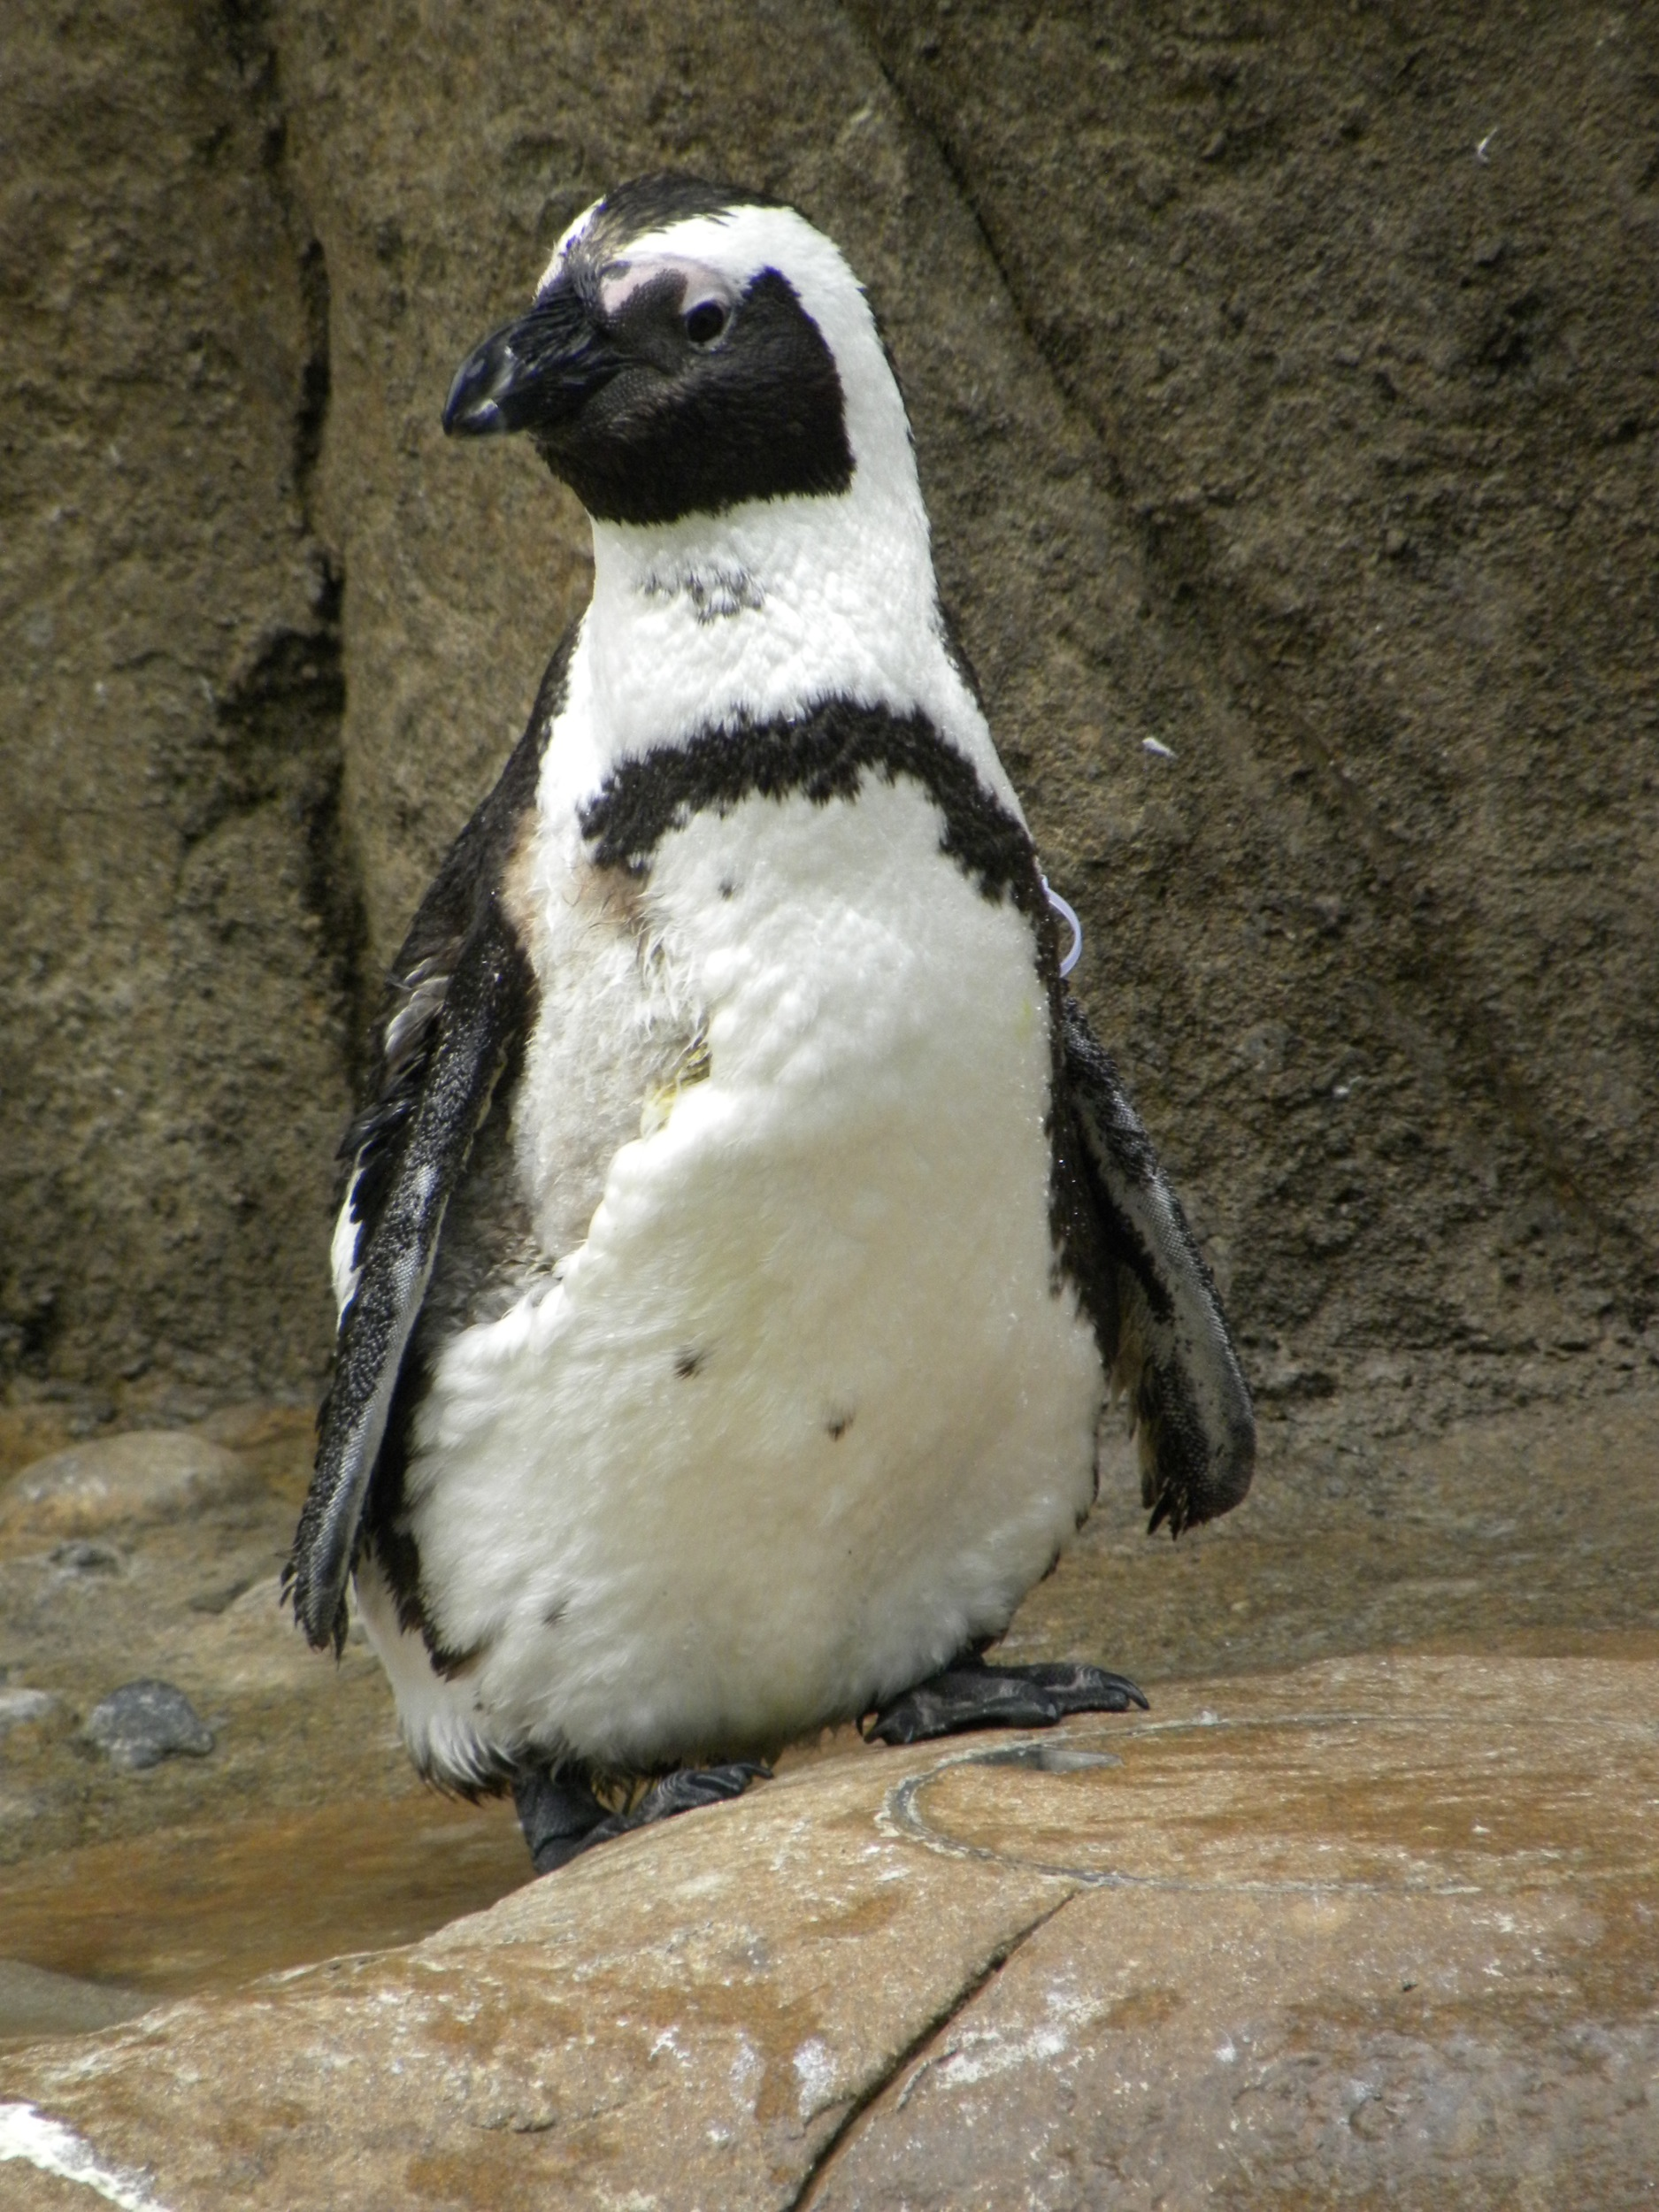penguin: (324, 171, 1270, 1808)
